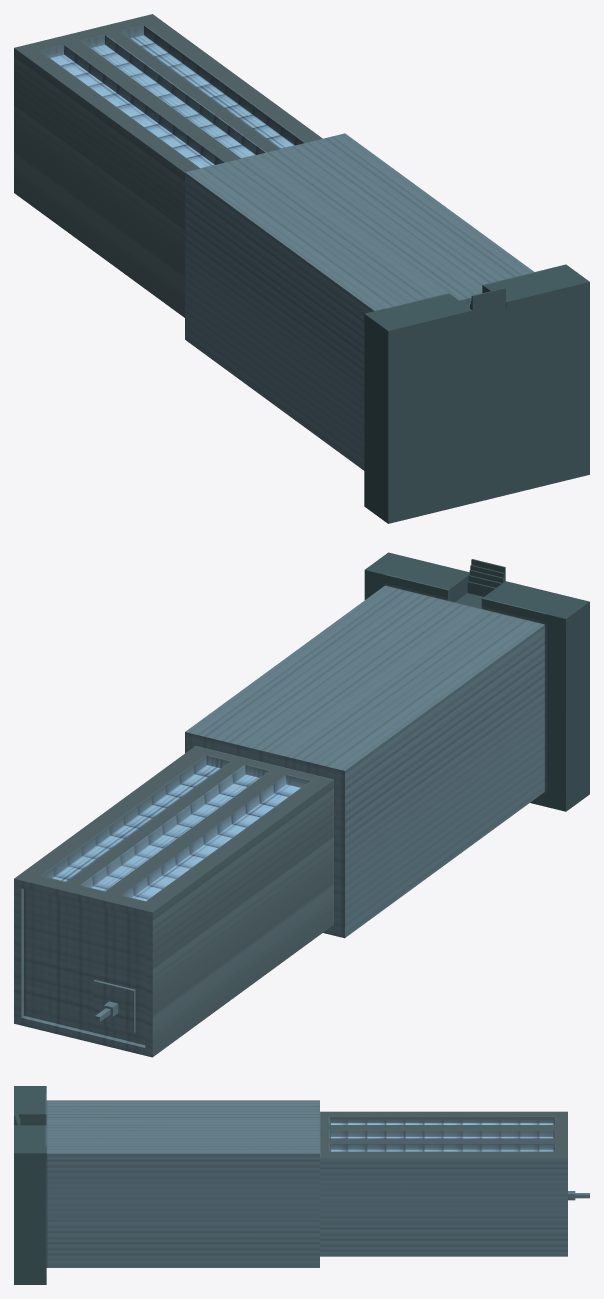
The model's file is buildings-comercial-08.fbx.
3 views of the same model, one above another, from view 1: azimuth 30°, elevation 25°; view 2: azimuth 150°, elevation 25°; view 3: azimuth 270°, elevation 25° (orthographic). The views are drawn at different scales.
Parts seen in each view (by area): view 1: buildings-comercial-08; view 2: buildings-comercial-08; view 3: buildings-comercial-08.
Part boxes in pixels (x1,y1,x2,y2): buildings-comercial-08: [14, 14, 589, 523]; buildings-comercial-08: [14, 552, 589, 1057]; buildings-comercial-08: [14, 1086, 589, 1284].
Bounding box in the file's own units: 3.89 × 3.81 × 14.1.
